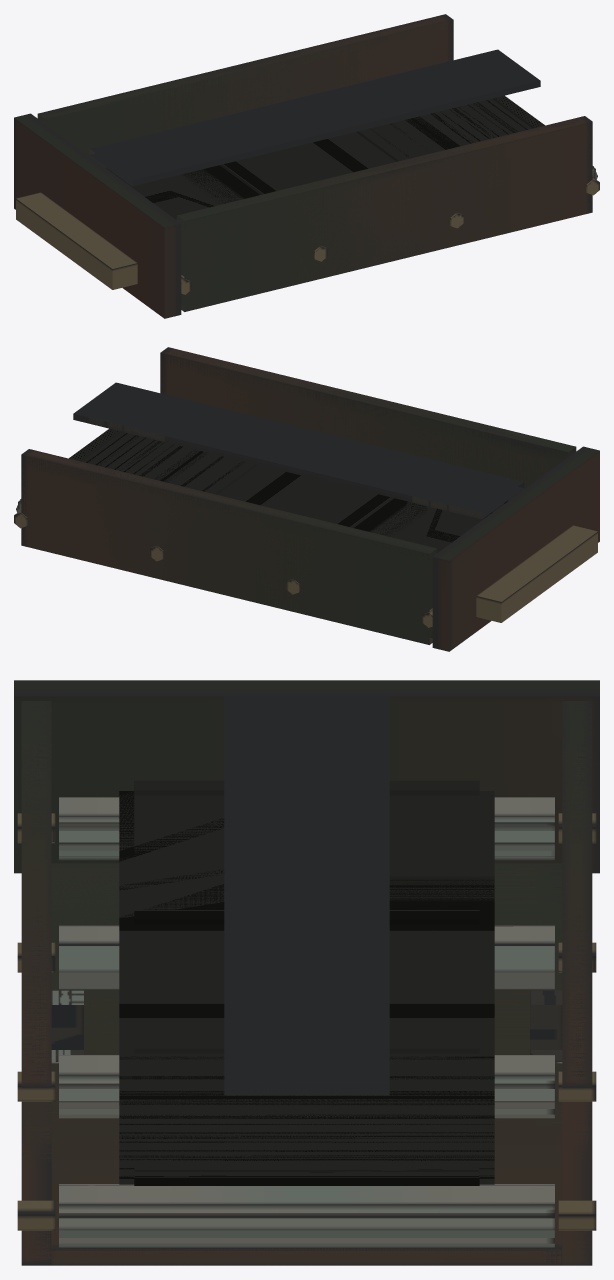
The model's file is place_works_conduit_lane_end.glb.
3 views of the same model, one above another, from view 1: azimuth 30°, elevation 25°; view 2: azimuth 150°, elevation 25°; view 3: azimuth 270°, elevation 25° (orthographic). The views are drawn at different scales.
Visible parts, largest first — view 1: LOD0_Merged_Material_Atlas, LOD1_Merged_Material_Atlas, LOD0_flow_mesh, LOD1_flow_mesh; view 2: LOD0_Merged_Material_Atlas, LOD1_Merged_Material_Atlas, LOD0_flow_mesh, LOD1_flow_mesh; view 3: LOD0_Merged_Material_Atlas, LOD0_flow_mesh, LOD1_Merged_Material_Atlas, LOD1_flow_mesh.
Boxes of the visible parts, x1,y1,x2,y2 form: LOD0_Merged_Material_Atlas: (14,14,599,318); LOD1_Merged_Material_Atlas: (37,14,595,311); LOD0_flow_mesh: (106,95,544,219); LOD1_flow_mesh: (106,99,531,217); LOD0_Merged_Material_Atlas: (14,347,599,651); LOD1_Merged_Material_Atlas: (18,347,576,644); LOD0_flow_mesh: (69,428,507,552); LOD1_flow_mesh: (83,432,507,551); LOD0_Merged_Material_Atlas: (14,680,599,1265); LOD0_flow_mesh: (119,780,494,1185); LOD1_Merged_Material_Atlas: (21,695,592,1265); LOD1_flow_mesh: (119,791,494,1184).
Bounding box in the file's own units: 1.4 × 0.268 × 0.78.
Materials: 1 (1 with a texture image).
